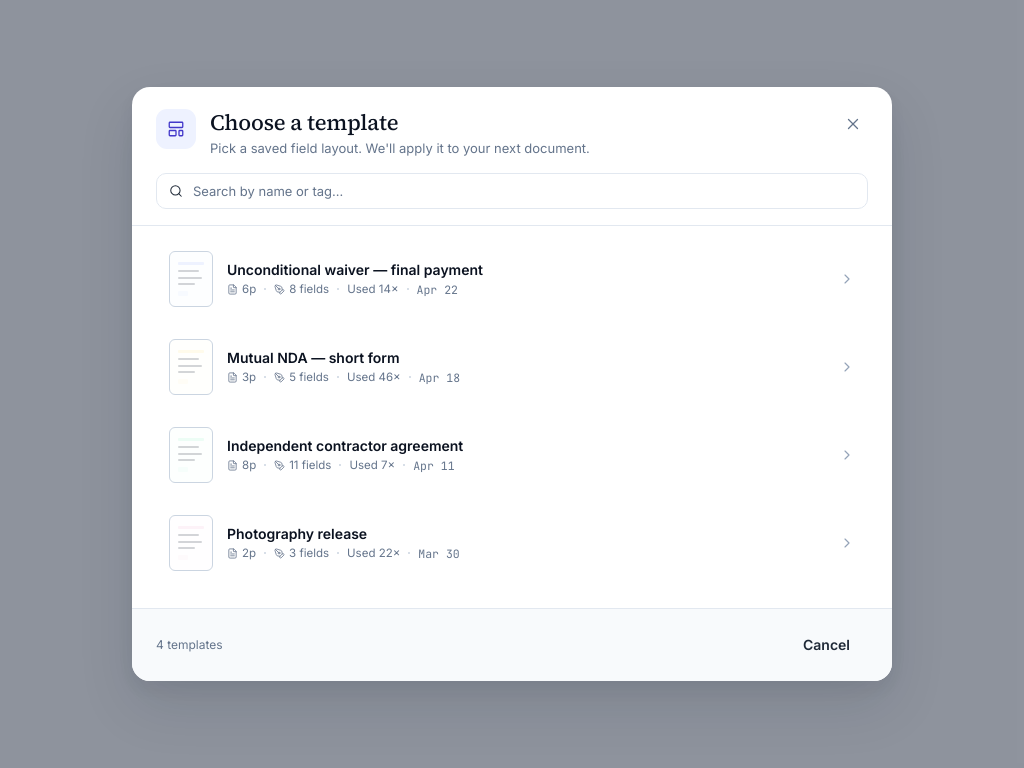
TemplatePickerDialog › filters by search query (matches on name)
In the field named "search templates": {"x": 523, "y": 191} [191,182,855,200], type "Uncond"
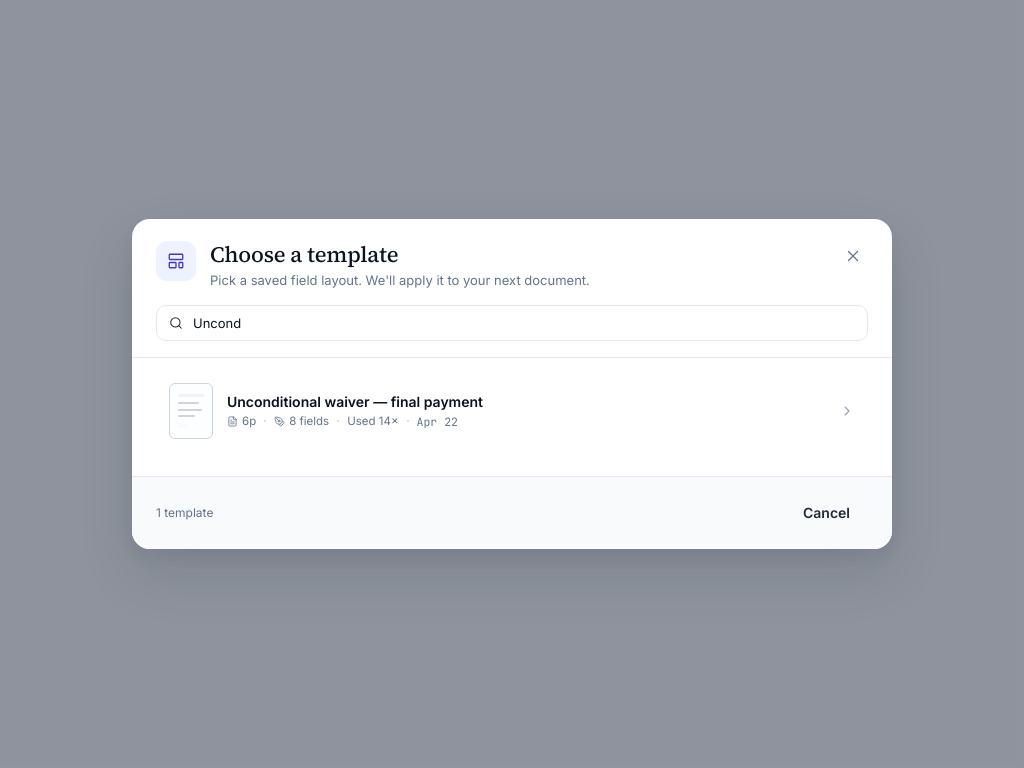
Expected: the button "Mutual NDA — short form" is gone
Expected: the button "Independent contractor agreement" is gone
Expected: the button "Photography release" is gone
